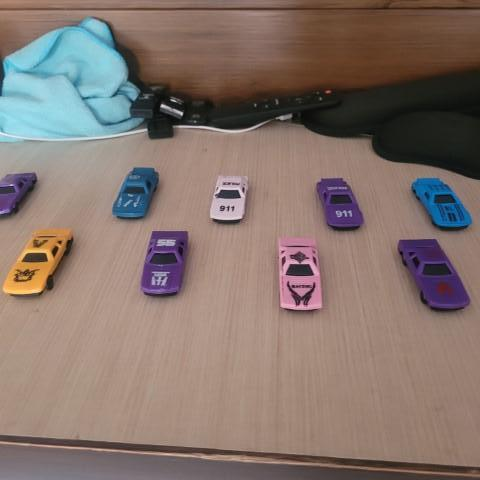car: (393, 235, 472, 312), (404, 173, 476, 230), (277, 233, 326, 316), (141, 228, 192, 296), (315, 176, 366, 229), (115, 165, 163, 218), (210, 173, 249, 223)
